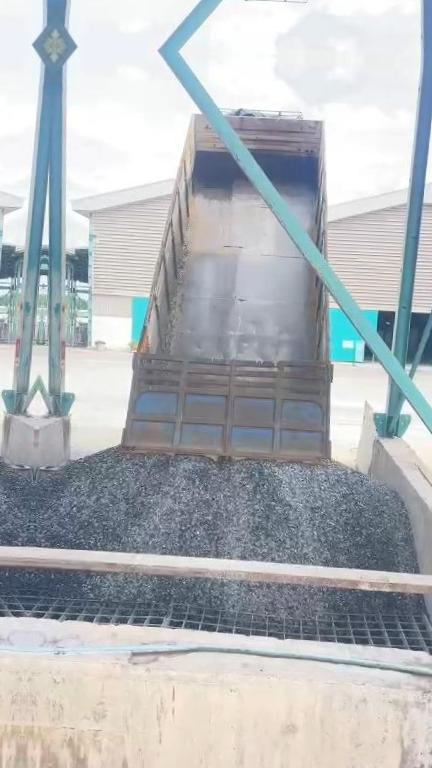gravel: (32, 448, 417, 571), (29, 572, 421, 615)
